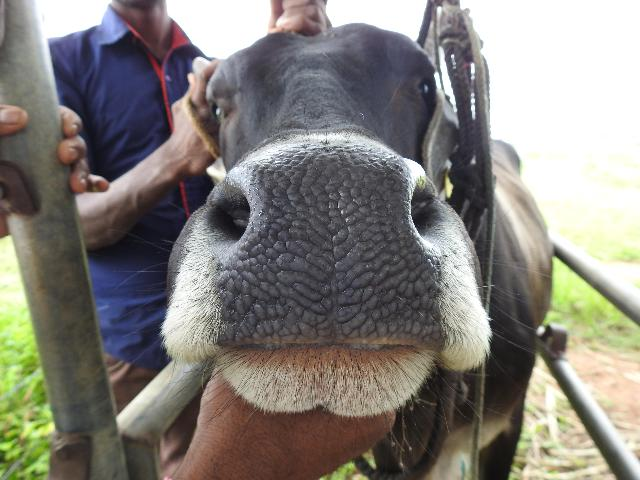Muzzle: (237, 162, 421, 342)
